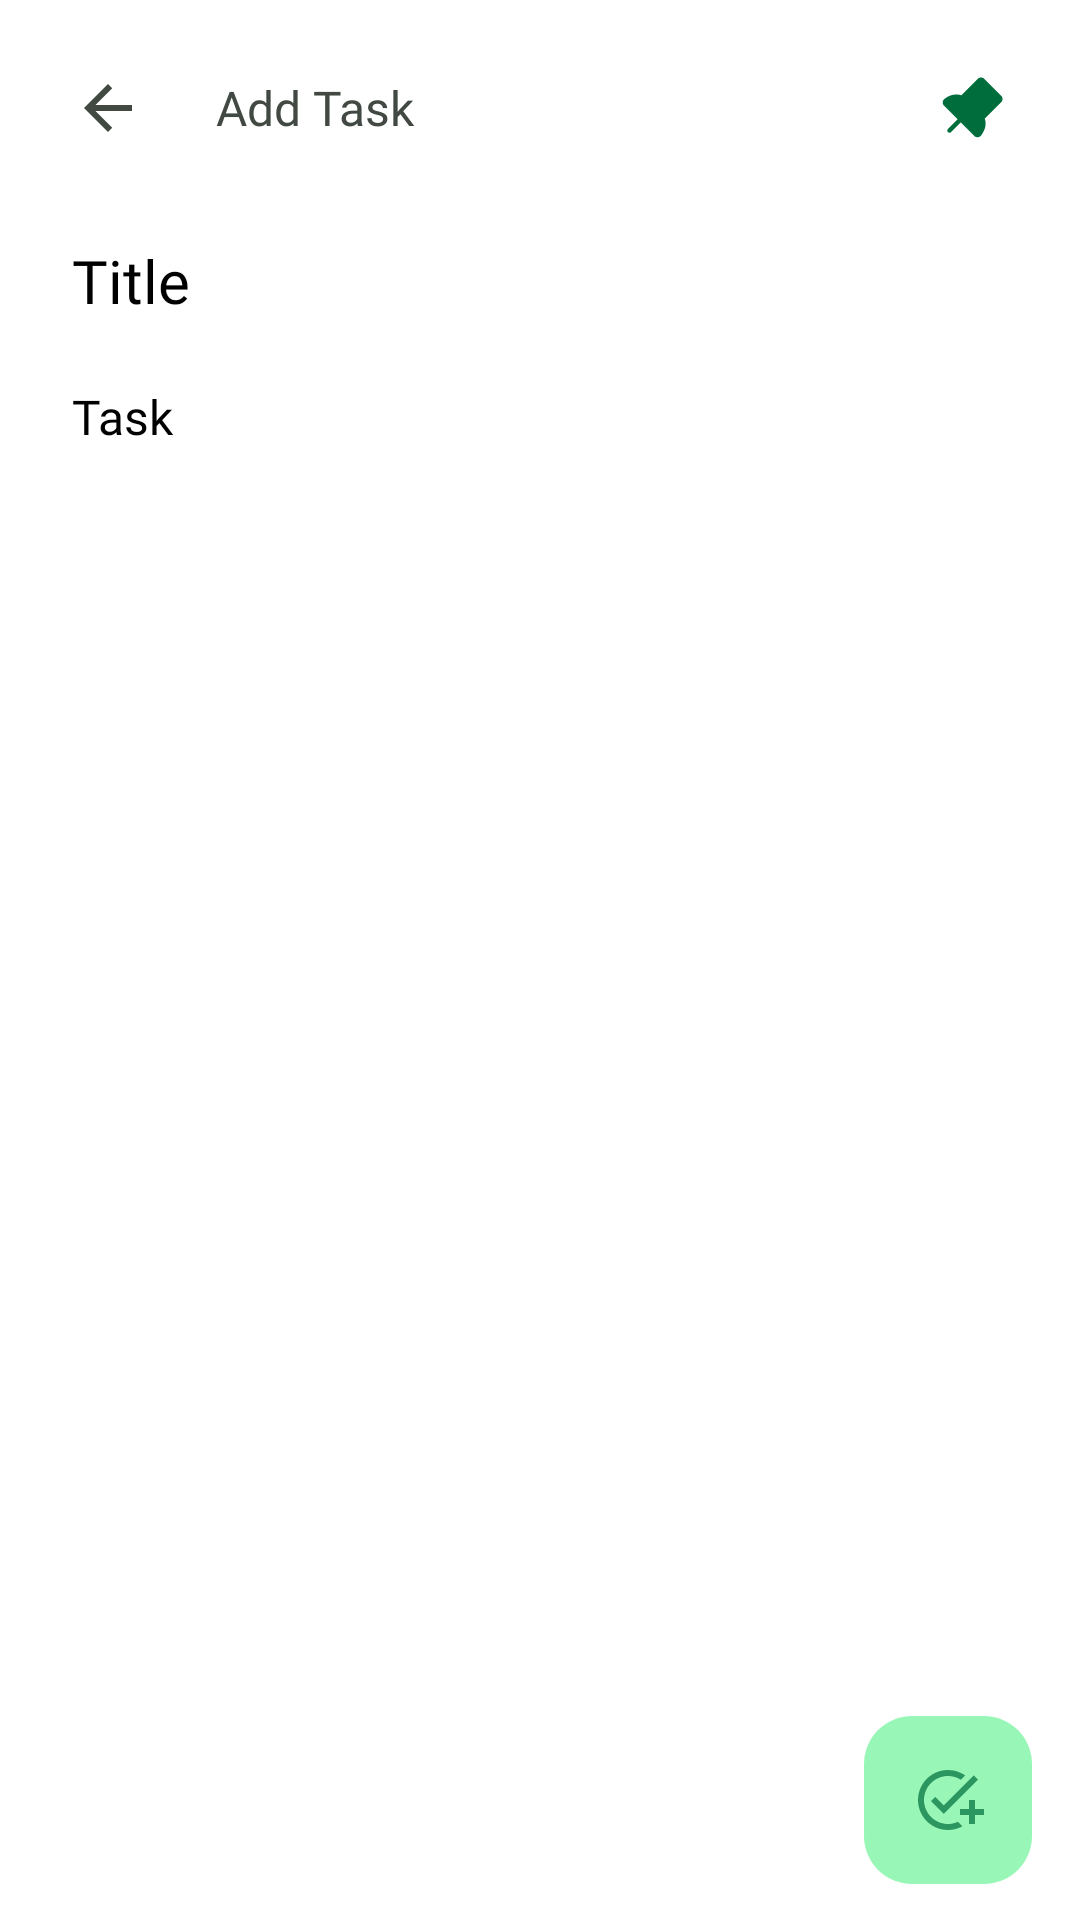

Where to tap for icons on this 1080 x 1920 app screen, as (x=x, y=y):
back button: (x=108, y=108)
pin button: (x=972, y=107)
Save button: (x=948, y=1800)
